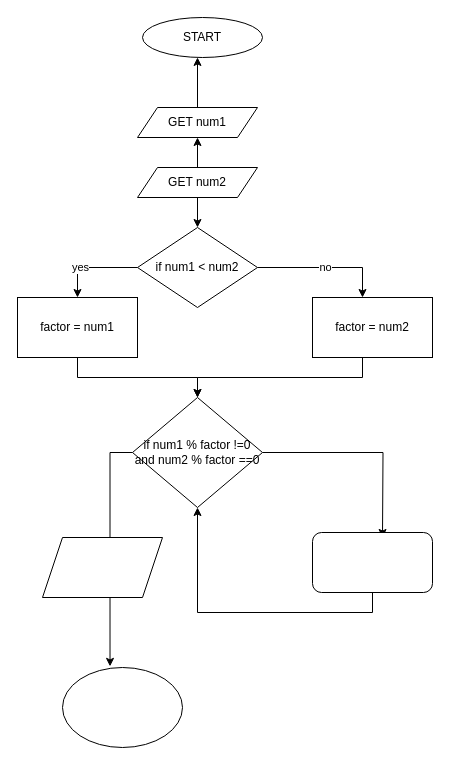
This 450x765 diagram has some shape labels left out. Each missing label, with the box of its shape:
end: (62, 666, 182, 748)
factor = factor - 1: (312, 532, 432, 592)
Print the highest common factor: (42, 536, 162, 598)
